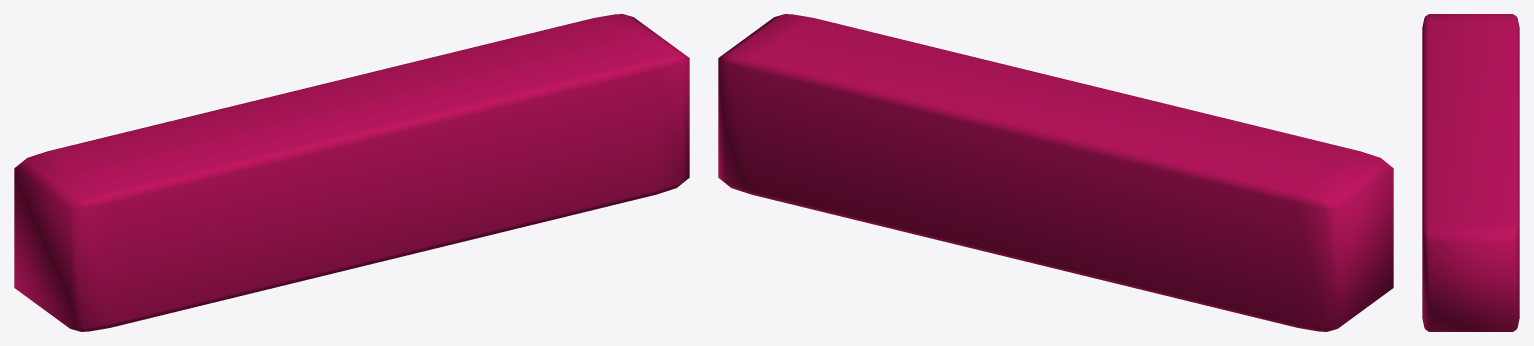
The model's file is Cube_Long.fbx.
The picture shows the model from 3 angles, left to right: view 1: azimuth 30°, elevation 25°; view 2: azimuth 150°, elevation 25°; view 3: azimuth 270°, elevation 25°; orthographic projection. The views are drawn at different scales.
Visible parts, largest first — view 1: Cube_Long; view 2: Cube_Long; view 3: Cube_Long.
Part boxes in pixels (<box>): Cube_Long: <box>14,14,689,331</box>; Cube_Long: <box>718,14,1393,331</box>; Cube_Long: <box>1422,14,1519,331</box>.
Bounding box in the file's own units: 6.53 × 1.37 × 1.18.
